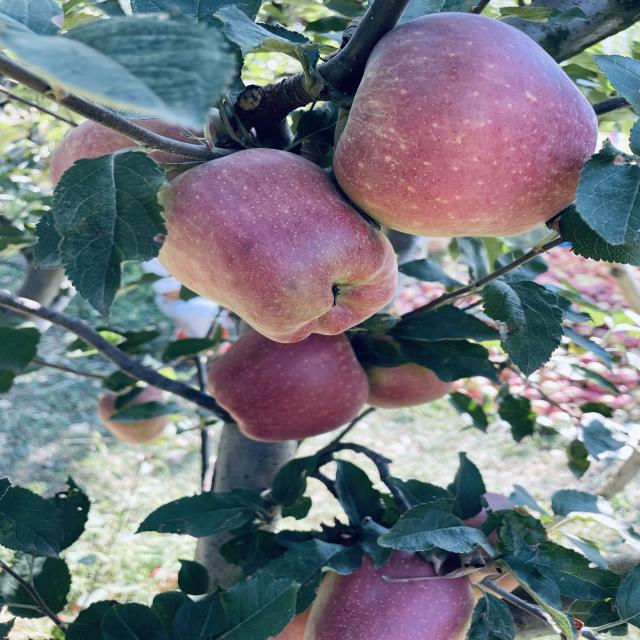Apple: (333, 12, 597, 236), (158, 149, 398, 342), (207, 330, 368, 442), (303, 550, 473, 640)
